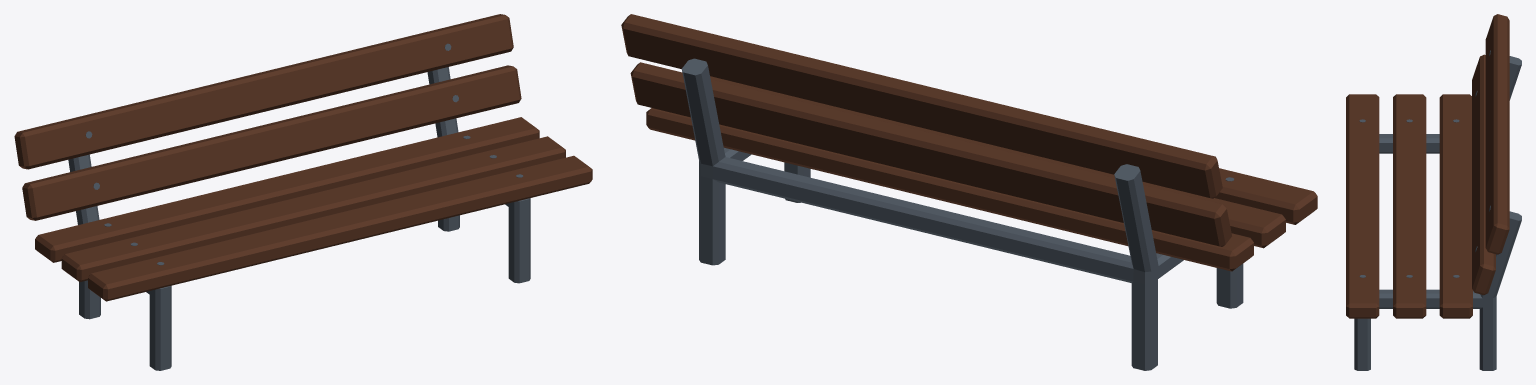
File: low_poly_wooden_bench.glb
The picture shows the model from 3 angles, left to right: view 1: azimuth 30°, elevation 25°; view 2: azimuth 150°, elevation 25°; view 3: azimuth 270°, elevation 25°; orthographic projection. The views are drawn at different scales.
Parts seen in each view (by area): view 1: Bench; view 2: Bench; view 3: Bench.
Part boxes in pixels (box(x1,y1,x2,y2)): Bench: box(14, 14, 592, 370); Bench: box(621, 14, 1317, 370); Bench: box(1346, 14, 1521, 370).
Size of the model in its own units: 3 by 1.13 by 1.05.
